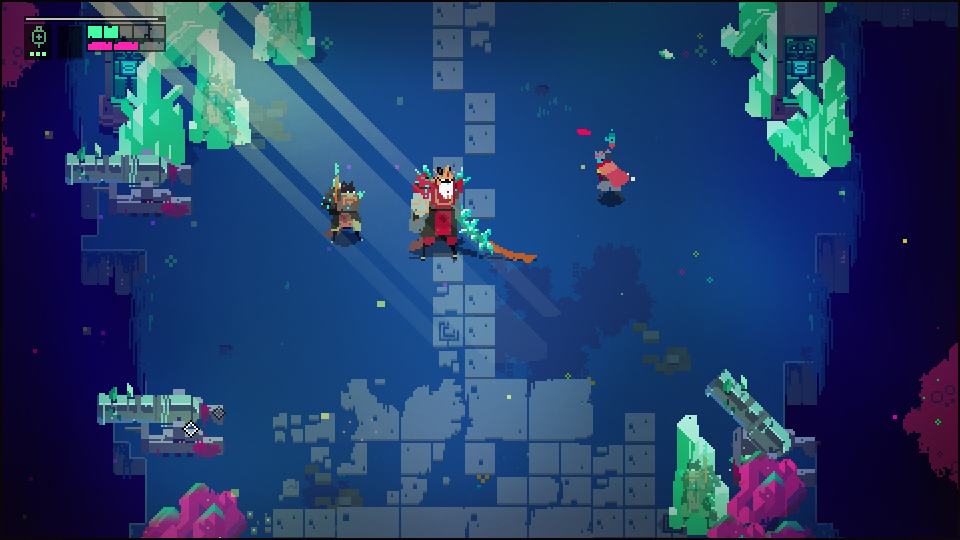hanged_man: (395, 161, 498, 257)
player: (595, 150, 634, 195)
